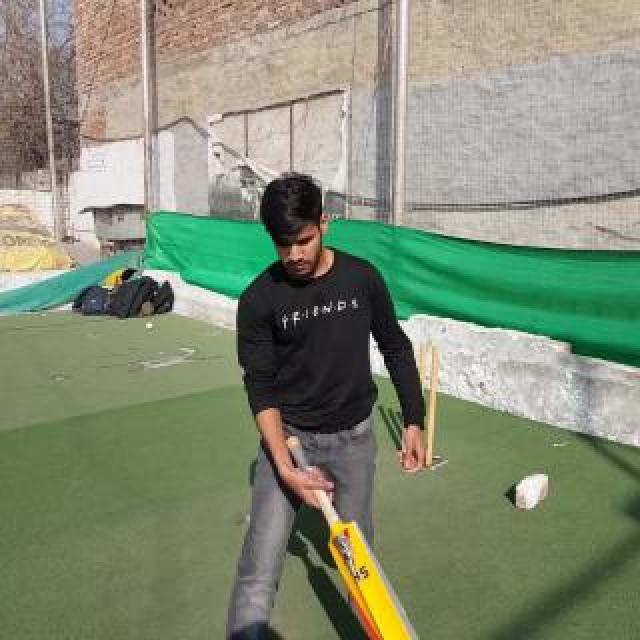ball: (146, 322, 152, 330)
bat: (287, 436, 419, 640)
